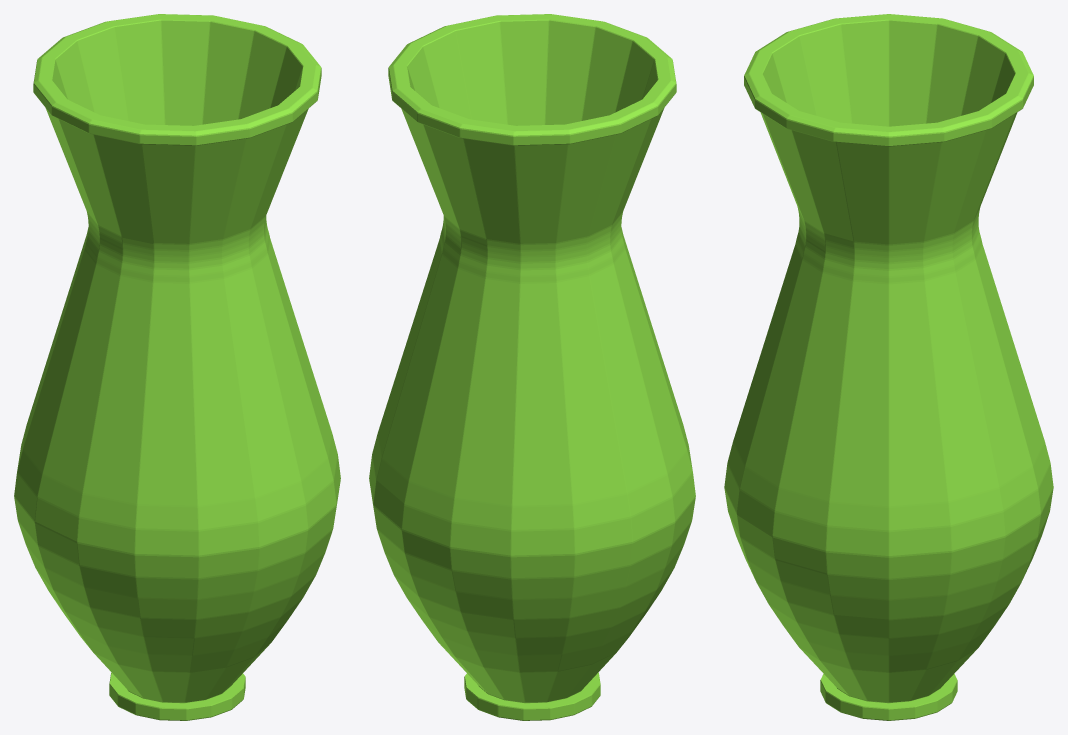
File: vasija.fbx
The picture shows the model from 3 angles, left to right: view 1: azimuth 30°, elevation 25°; view 2: azimuth 150°, elevation 25°; view 3: azimuth 270°, elevation 25°; orthographic projection.
Parts seen in each view (by area): view 1: vasija; view 2: vasija; view 3: vasija.
Part boxes in pixels (x1,y1,x2,y2): vasija: (14,14,340,720); vasija: (369,14,695,720); vasija: (724,14,1053,720).
Size of the model in its own units: 55.57 by 116 by 55.57.
